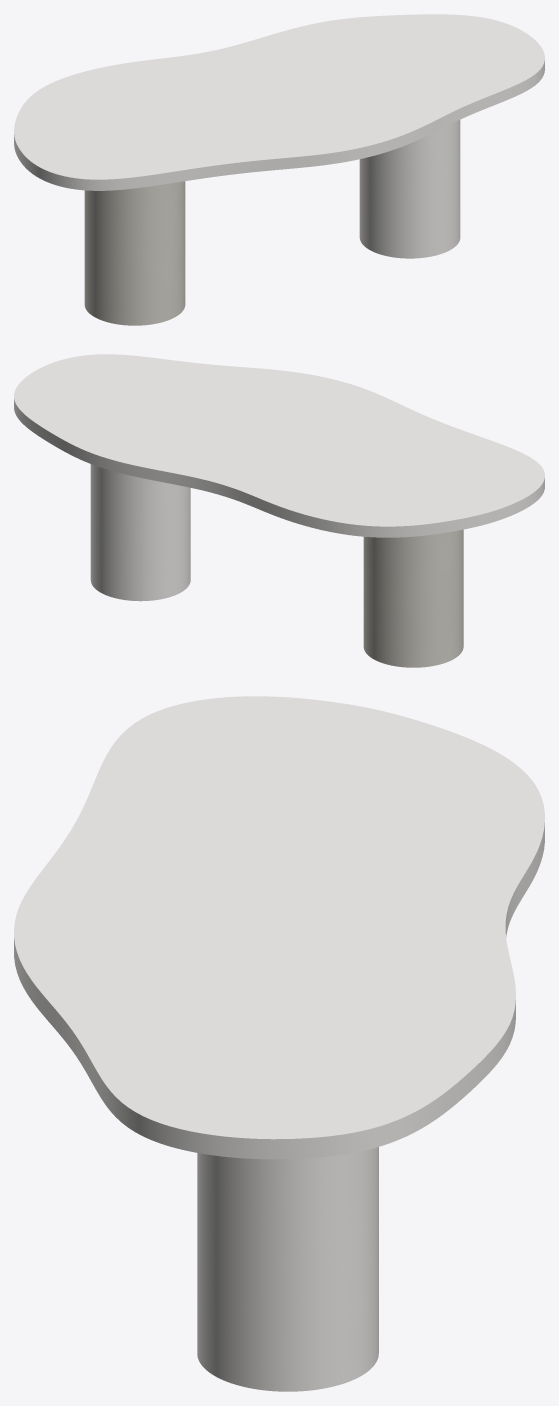
The model's file is purewhite_toplast_standard_stream.glb.
3 renders of one model, top to bottom at view 1: azimuth 30°, elevation 25°; view 2: azimuth 150°, elevation 25°; view 3: azimuth 270°, elevation 25°, orthographic. The views are drawn at different scales.
Parts seen in each view (by area): view 1: standard_toplast, stream; view 2: standard_toplast, stream; view 3: standard_toplast, stream.
Boxes of the visible parts, x1=… form: standard_toplast: x1=14, y1=14, x2=544, y2=190; stream: x1=84, y1=120, x2=460, y2=325; standard_toplast: x1=14, y1=354, x2=544, y2=537; stream: x1=90, y1=464, x2=463, y2=667; standard_toplast: x1=14, y1=696, x2=544, y2=1159; stream: x1=197, y1=1147, x2=378, y2=1391.
Size of the model in its own units: 7.5 by 2.5 by 3.8.
Materials: 2 (2 with a texture image).
